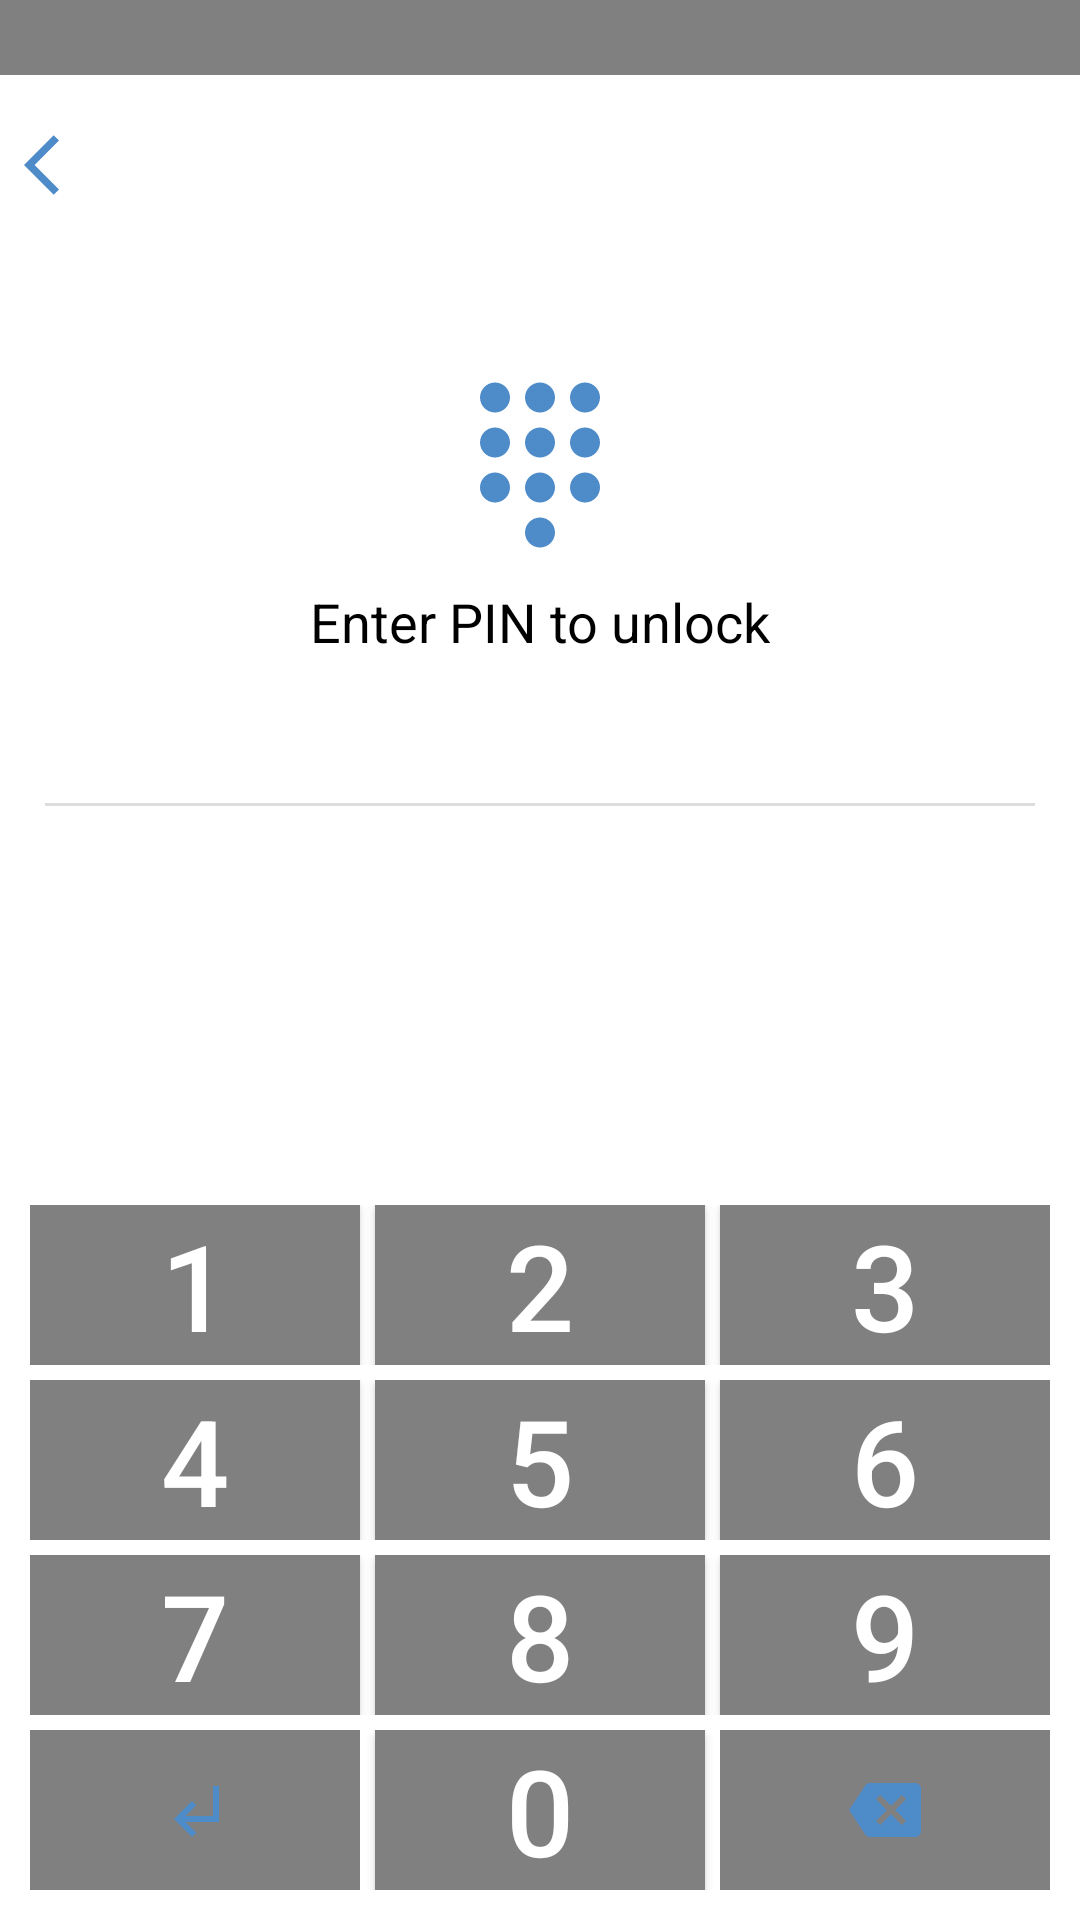

Icon click points for this 1080x1920 phone screenshot, format point (x, y):
back: point (41, 165)
